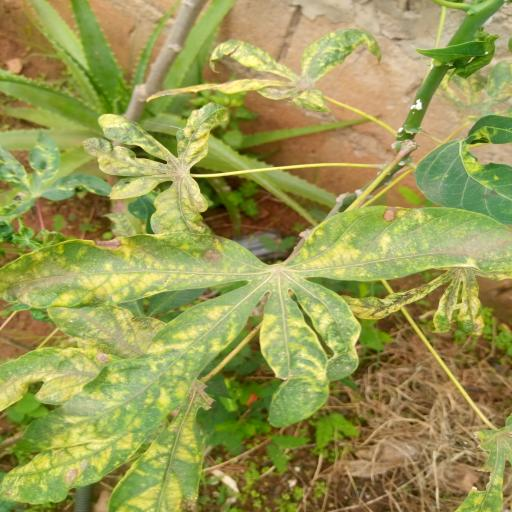Cassava_Mosaic: (0, 199, 512, 435), (96, 102, 220, 246), (140, 29, 372, 104)
